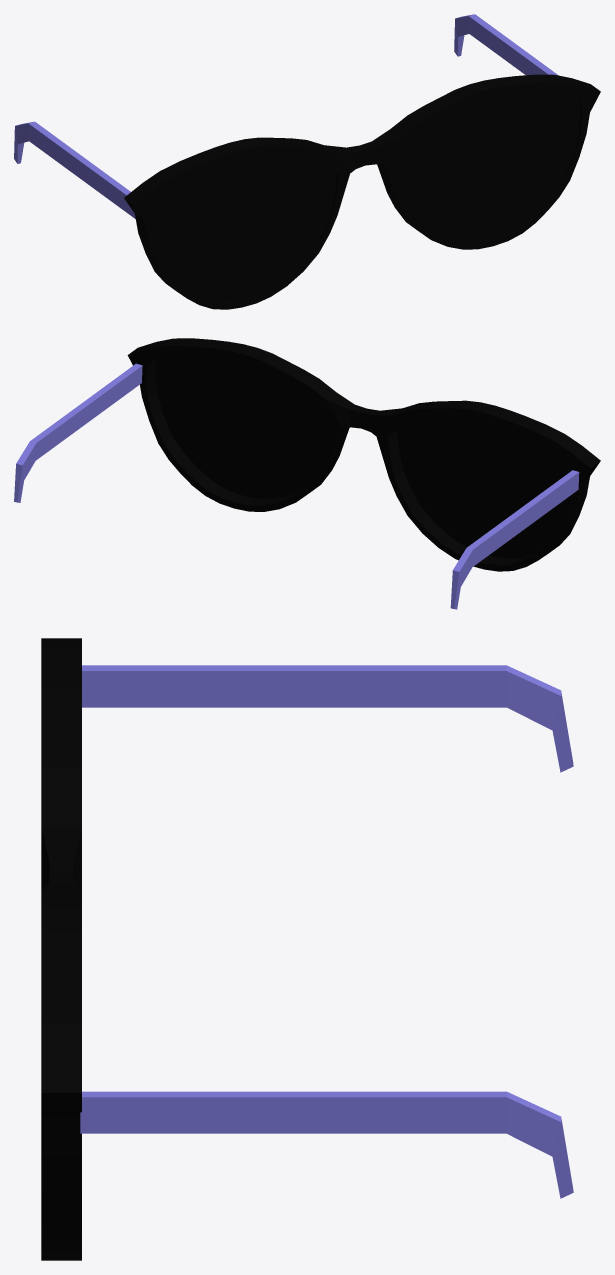
File: naocare2.fbx
3 views of the same model, one above another, from view 1: azimuth 30°, elevation 25°; view 2: azimuth 150°, elevation 25°; view 3: azimuth 270°, elevation 25° (orthographic). The views are drawn at different scales.
Parts seen in each view (by area): view 1: Cylinder.005, Cylinder.008, Cylinder.002, Cube.001, Cube.002; view 2: Cylinder.008, Cylinder.002, Cylinder.005, Cube.001, Cube.002; view 3: Cylinder.002, Cube.002, Cube.001.
Part boxes in pixels (<box>): Cylinder.005: <box>153,151,337,302</box>; Cylinder.008: <box>396,87,580,242</box>; Cylinder.002: <box>124,74,600,309</box>; Cube.001: <box>14,121,135,218</box>; Cube.002: <box>454,14,558,75</box>; Cylinder.008: <box>155,350,330,499</box>; Cylinder.002: <box>127,338,600,571</box>; Cylinder.005: <box>397,414,571,558</box>; Cube.001: <box>450,470,579,609</box>; Cube.002: <box>14,363,142,502</box>; Cylinder.002: <box>41,638,81,1260</box>; Cube.002: <box>80,1091,573,1198</box>; Cube.001: <box>82,665,573,772</box>.
Bounding box in the file's own units: 79.59 × 25.72 × 39.6.
